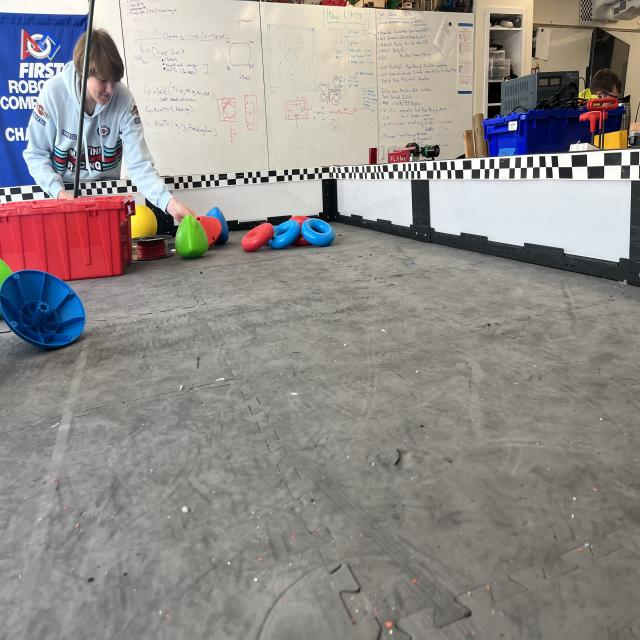Blue-Ring: (301, 218, 335, 247), (269, 220, 301, 248)
Red-Ring: (241, 223, 274, 252)
